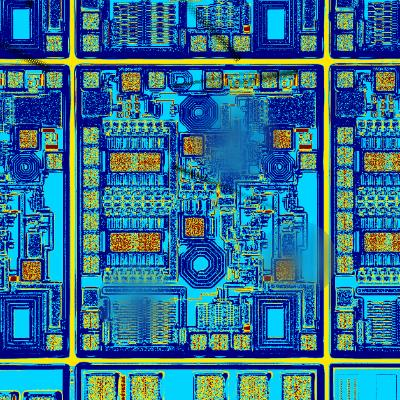Die: (74, 64, 325, 359)
Pad 1: (138, 233, 160, 251), (138, 153, 160, 171), (110, 153, 132, 171), (111, 233, 132, 251), (276, 261, 295, 280), (185, 218, 204, 236), (122, 72, 140, 91), (184, 137, 202, 155), (273, 130, 291, 148)
Pad 2: (83, 147, 99, 165), (84, 190, 99, 209), (83, 127, 99, 144), (84, 255, 99, 273), (84, 234, 99, 252), (84, 169, 99, 187), (84, 212, 99, 230), (83, 72, 99, 88), (83, 334, 99, 350), (206, 72, 222, 88), (149, 72, 164, 88), (301, 72, 316, 88), (262, 72, 277, 88), (83, 313, 99, 328), (234, 335, 250, 350), (212, 335, 228, 350), (301, 154, 316, 169), (301, 335, 316, 350), (191, 335, 206, 350)
